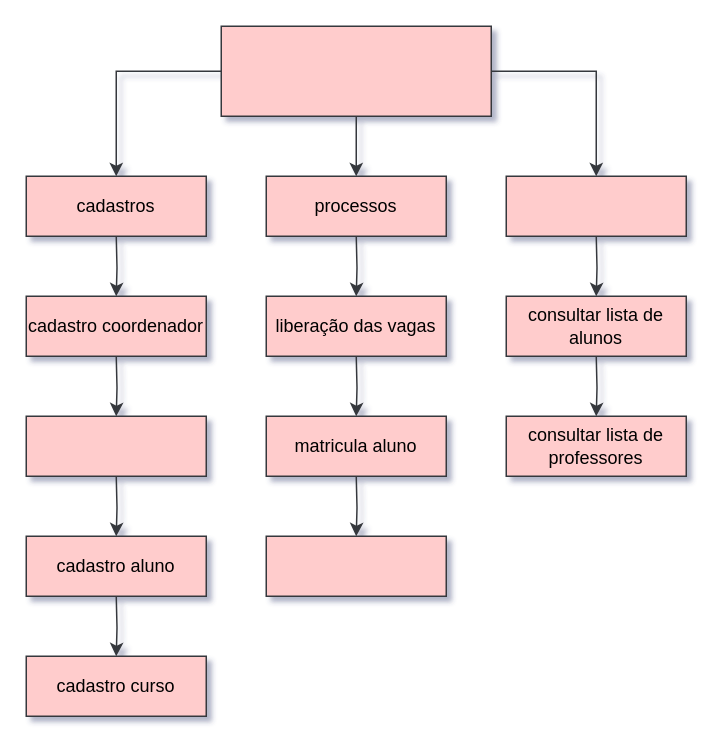
The diagram is 722 pixels wide and 752 high, and some of its shapes have lost their labels. Each missing label, with the box of its shape:
cadastro professor: (25, 415, 206, 476)
consultas e relatorios: (505, 175, 686, 236)
Gerenciamento de cursor, professores, alunos e coordenadores da universidade: (220, 25, 491, 116)
gerenciamento do curso: (265, 535, 446, 596)
